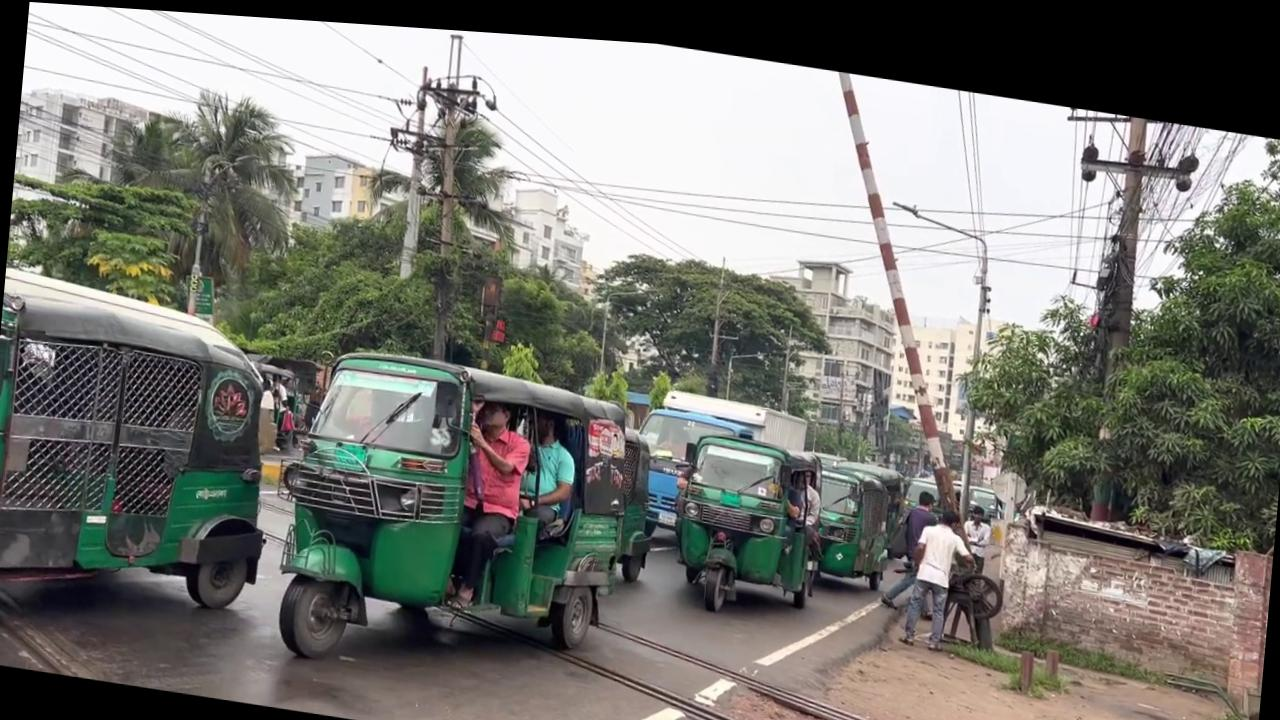Fence: (444, 389, 534, 612), (898, 490, 978, 642), (878, 472, 943, 605), (514, 399, 580, 524), (780, 454, 830, 551)
Garbage: (864, 185, 997, 511), (1084, 97, 1152, 511), (420, 25, 473, 357), (396, 57, 434, 277)
Motorcycle: (429, 582, 1244, 720)
Rickshaw: (265, 330, 662, 700), (0, 264, 284, 628), (627, 374, 809, 552)
